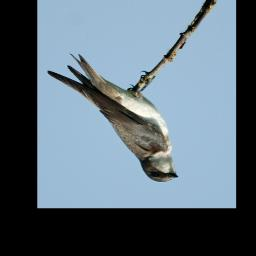Swallow: (47, 53, 179, 183)
